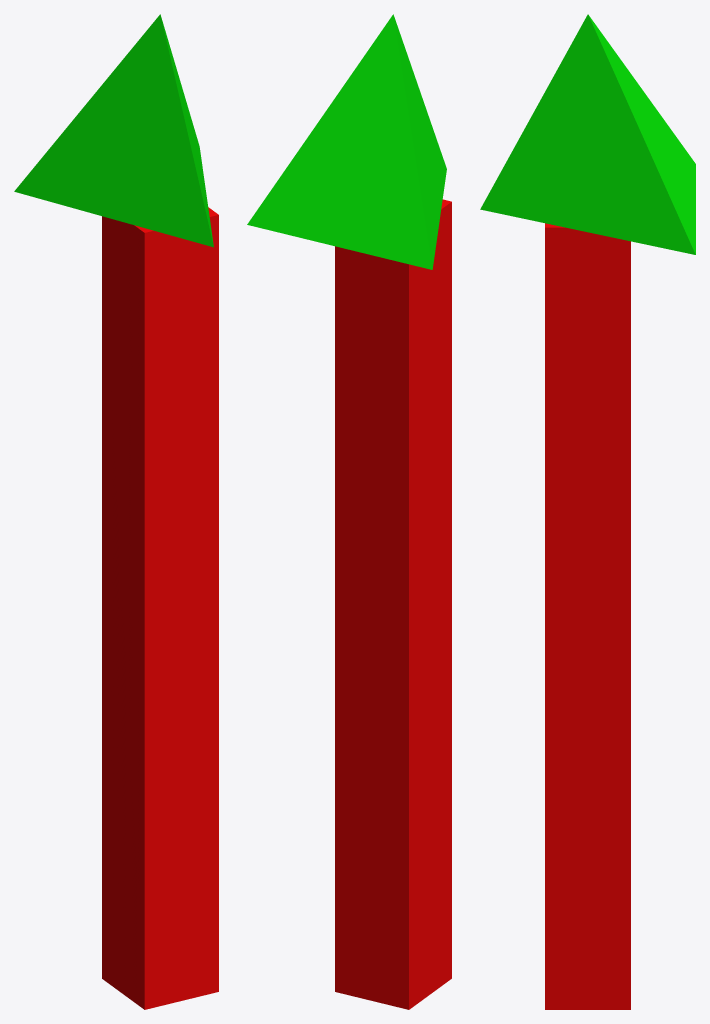
Rendered from antenna.dae.
3 views of the same model, side by side, from view 1: azimuth 30°, elevation 25°; view 2: azimuth 150°, elevation 25°; view 3: azimuth 270°, elevation 25° (orthographic).
Visible parts, largest first — view 1: mast-node, tip-node; view 2: mast-node, tip-node; view 3: mast-node, tip-node.
Part boxes in pixels (bbox=[...]): mast-node: bbox=[102, 207, 218, 1009]; tip-node: bbox=[14, 14, 213, 247]; mast-node: bbox=[335, 199, 451, 1009]; tip-node: bbox=[247, 14, 446, 269]; mast-node: bbox=[545, 223, 630, 1009]; tip-node: bbox=[480, 14, 695, 254].
Size of the model in its own units: 10 by 50 by 10.
